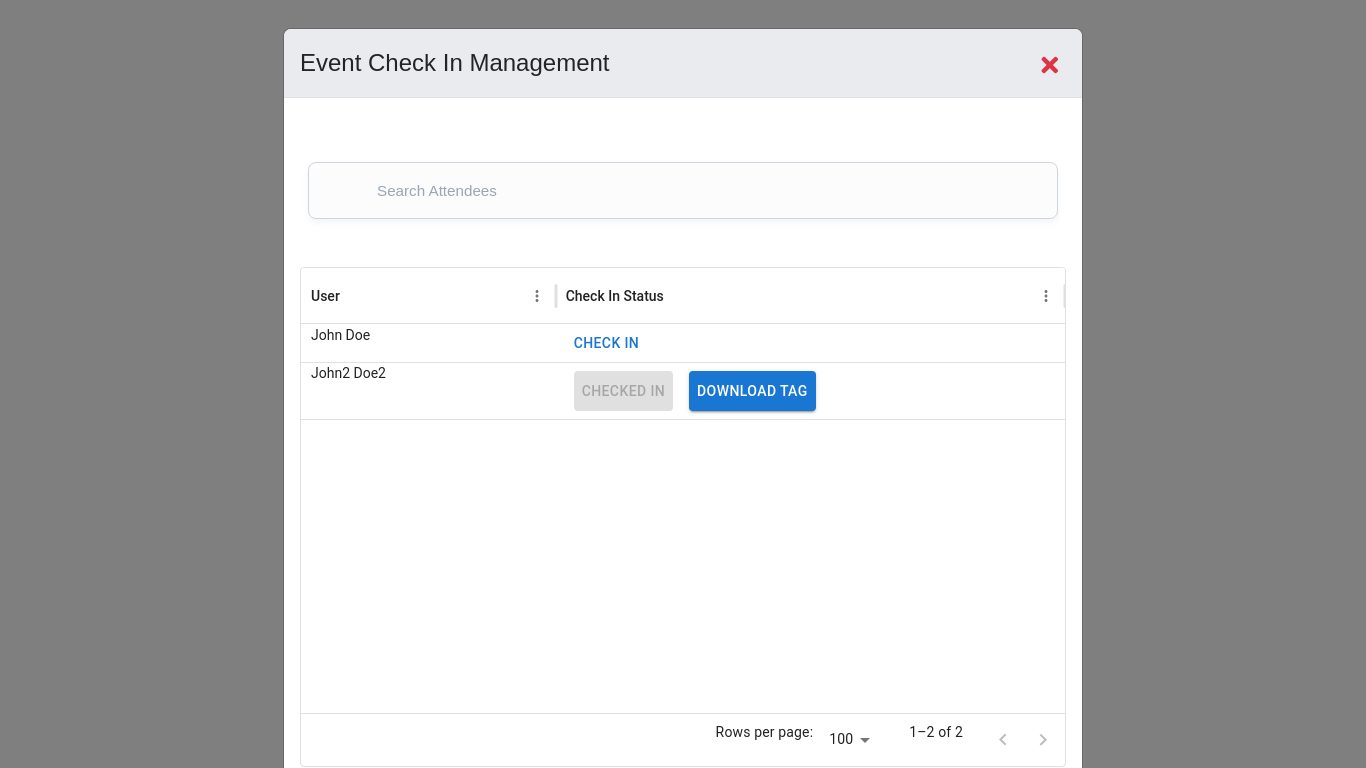
it: Testing Check In Attendees Modal › The modal should be rendered, and all the fetched users should be shown properly and user filtering should work
Expected: the text "Event Check In Management" is shown, [300,45,610,81]
Expected: the text "John Doe" is shown, [311,327,370,343]
Note: Test filtering of users
In the search field with placeholder "Search Attendees": coordinates (673, 190) [329,182,1017,199], type "John Doe"
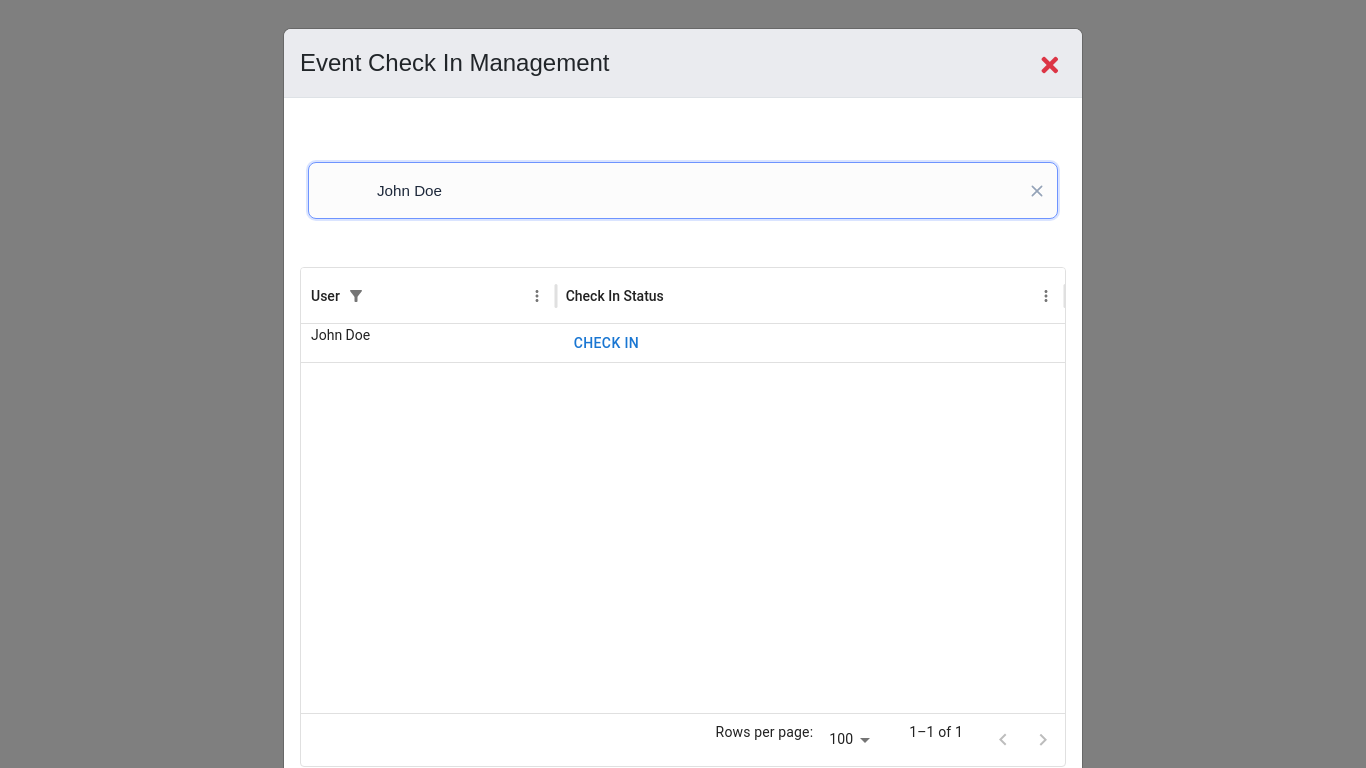
Expected: the text "John Doe" is shown, [311,327,370,343]
Expected: the text "John2 Doe2" is gone
Note: Test clearing search
Click the button with test id "clearSearchAttendees": coordinates (1037, 190) [1024,178,1049,203]
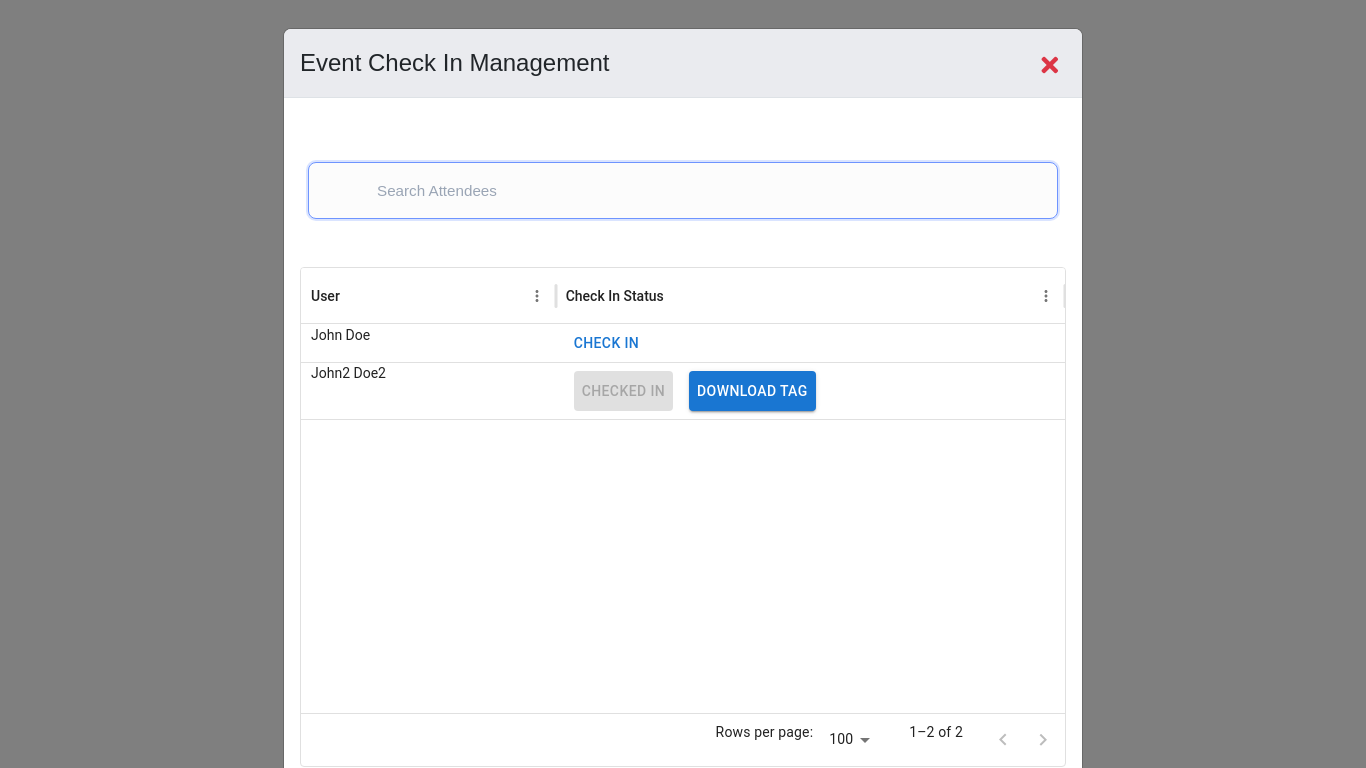
Expected: the text "John2 Doe2" is shown, [301,362,556,419]
